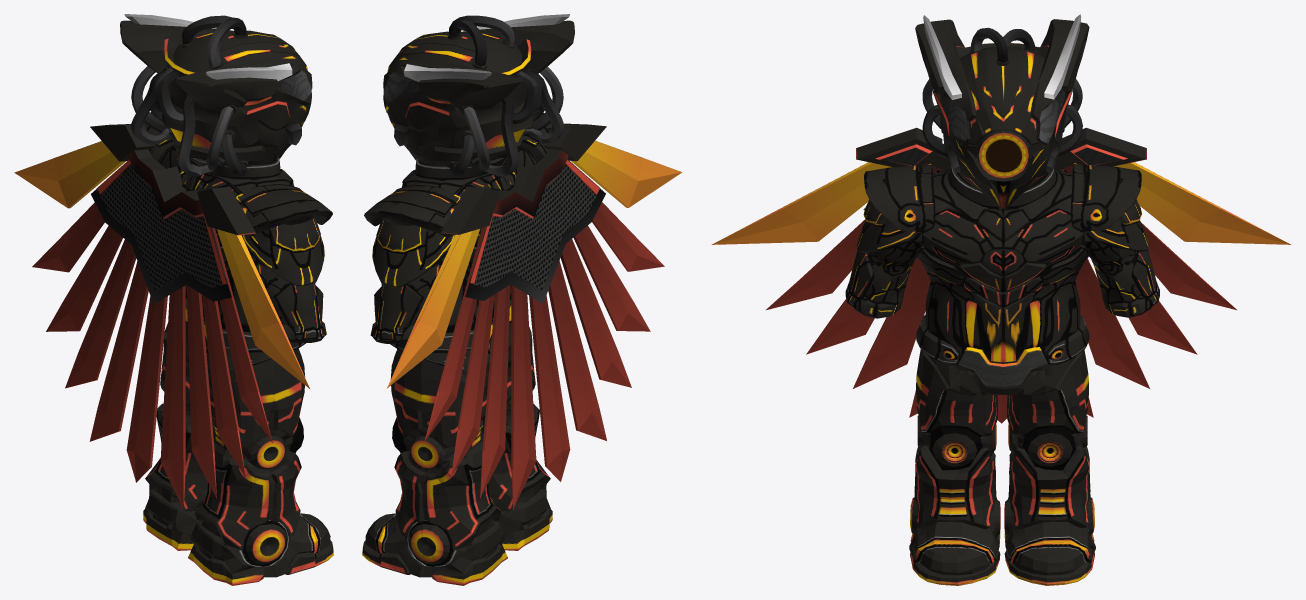
File: 3D Preview Asset.glb
The picture shows the model from 3 angles, left to right: view 1: azimuth 30°, elevation 25°; view 2: azimuth 150°, elevation 25°; view 3: azimuth 270°, elevation 25°; orthographic projection. The views are drawn at different scales.
Parts seen in each view (by area): view 1: Full Equipment; view 2: Full Equipment; view 3: Full Equipment.
Part boxes in pixels (left/top/right/bottom): Full Equipment: left=14, top=14, right=333, bottom=585; Full Equipment: left=362, top=14, right=682, bottom=585; Full Equipment: left=711, top=14, right=1291, bottom=585.
Bounding box in the file's own units: 2.25 × 6.65 × 6.78.
4 materials, 4 textured.
